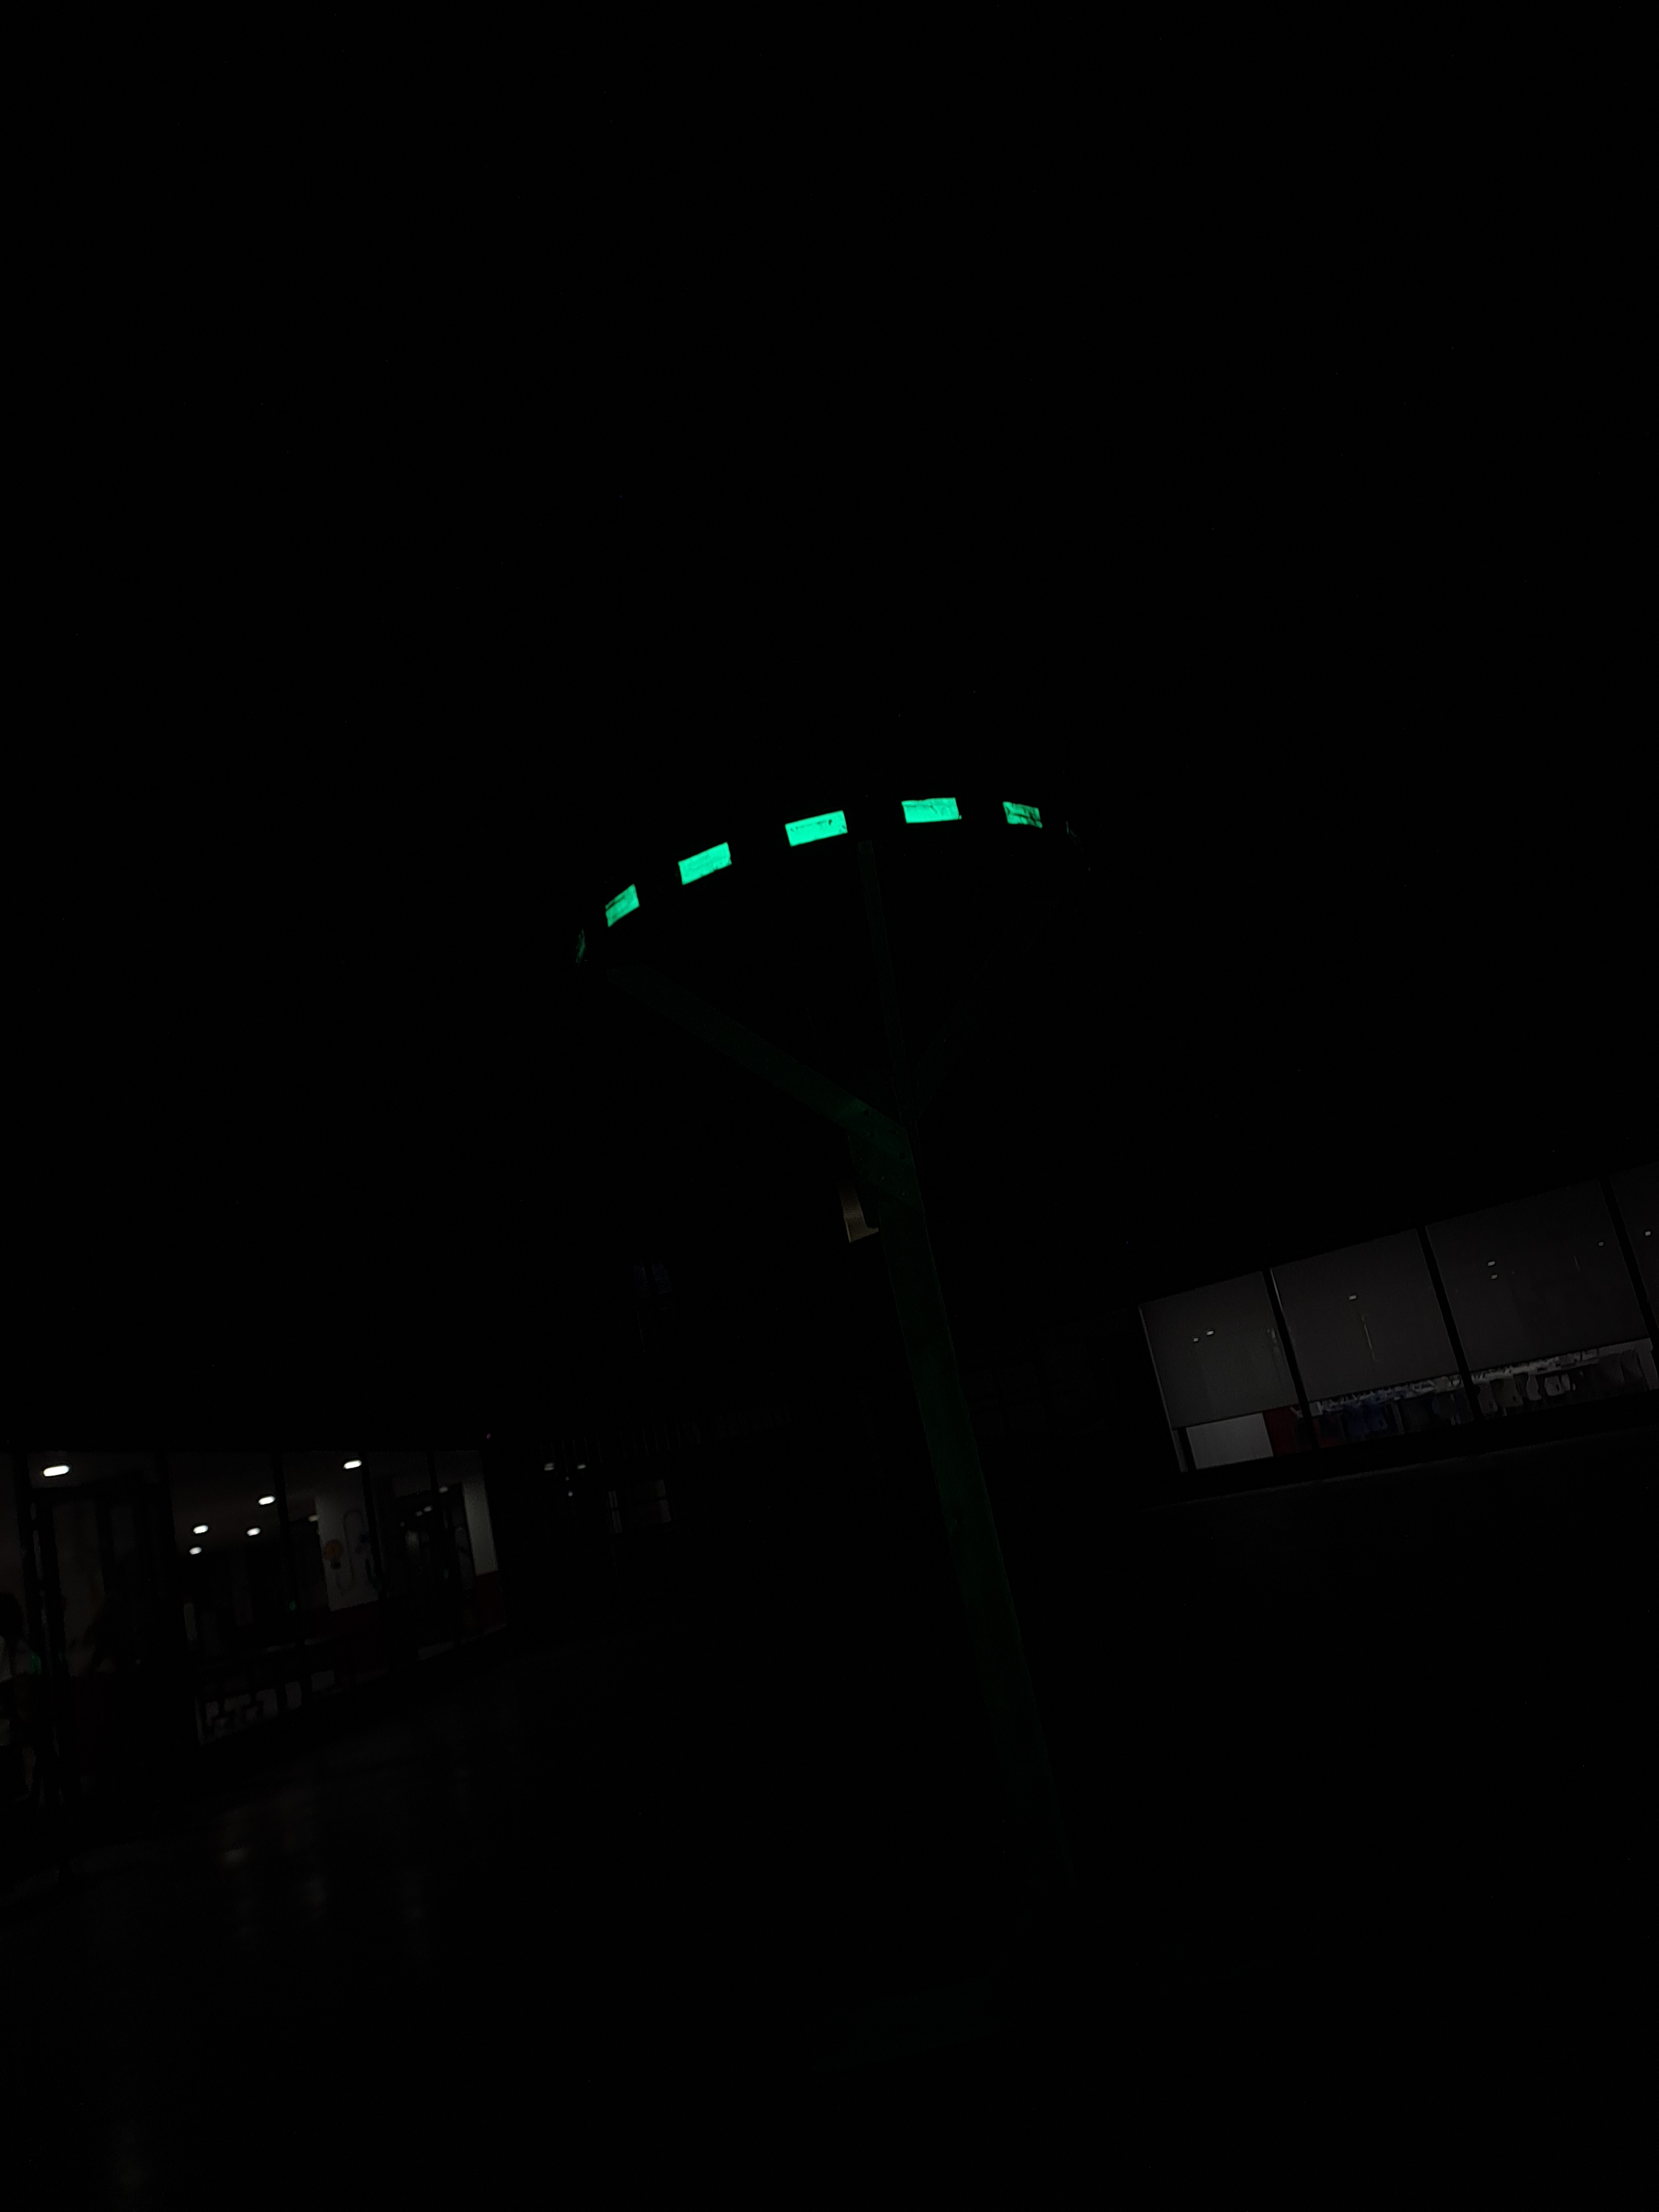hoop: (580, 780, 1051, 939)
